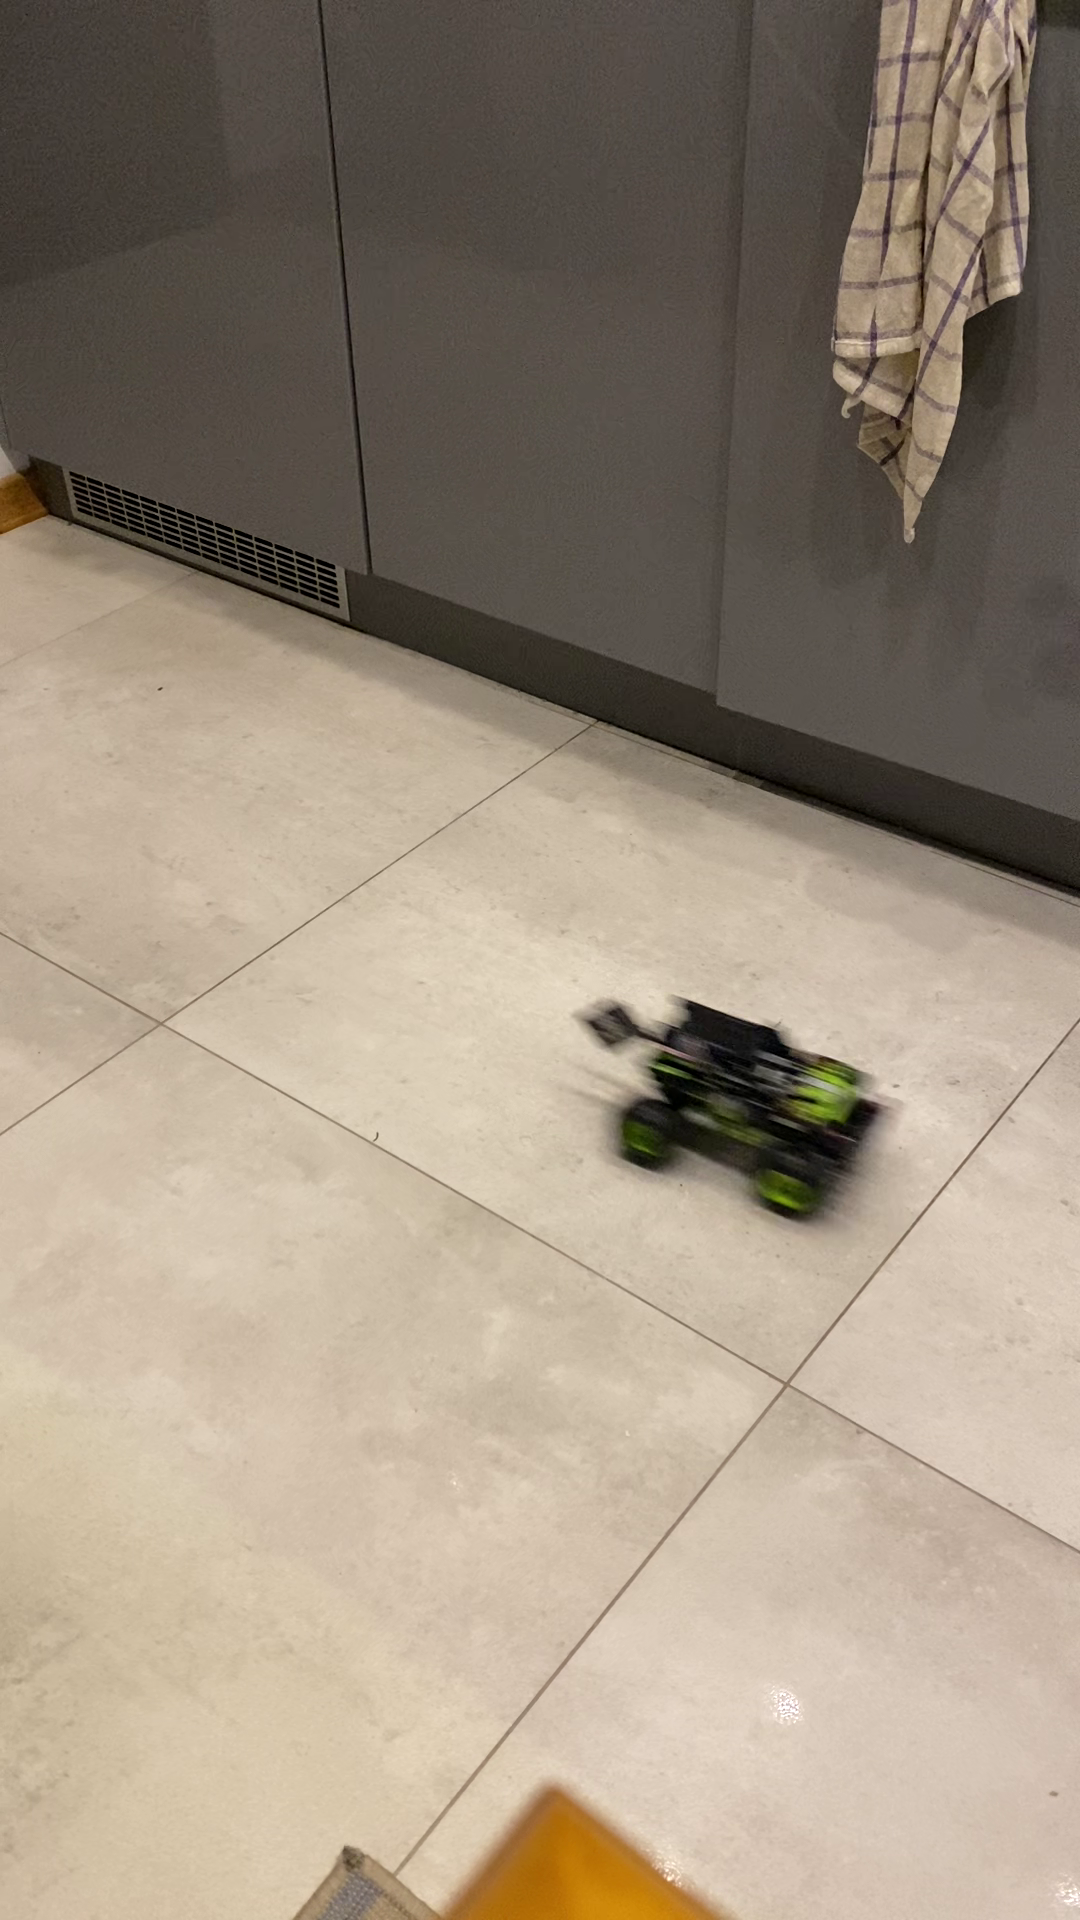car: (607, 1000, 865, 1229)
